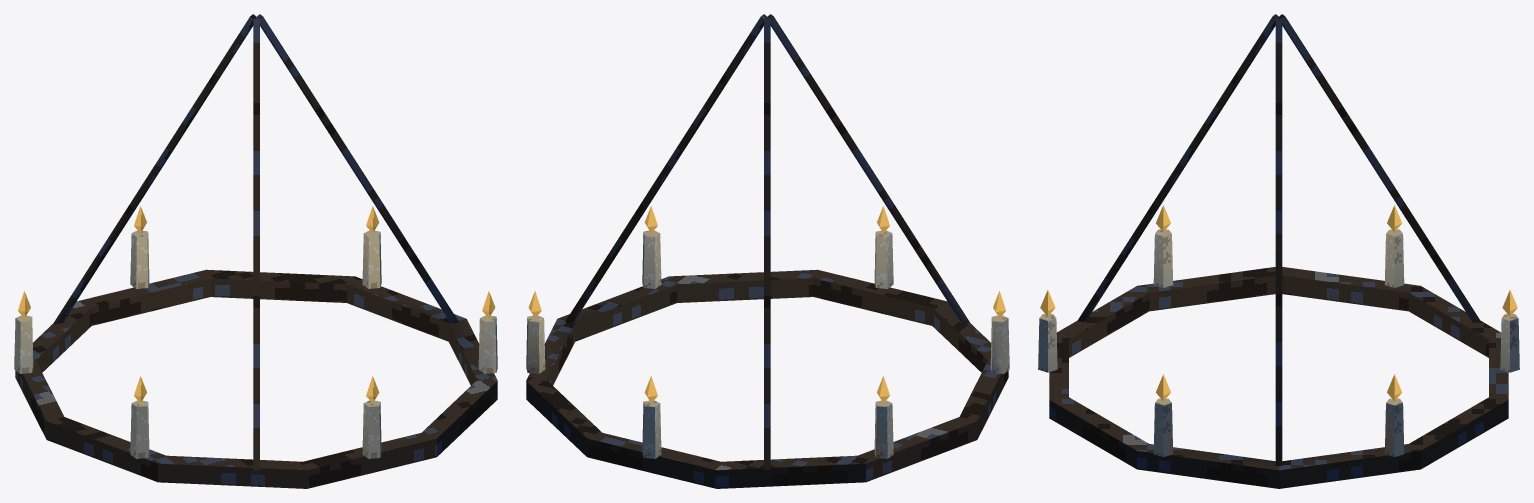
File: cst.chandelier.glb
3 renders of one model, left to right at view 1: azimuth 30°, elevation 25°; view 2: azimuth 150°, elevation 25°; view 3: azimuth 270°, elevation 25°, orthographic.
Parts seen in each view (by area): view 1: kit_iron, kit_candles; view 2: kit_iron, kit_candles; view 3: kit_iron, kit_candles.
Part boxes in pixels (bbox=[...]): kit_iron: bbox=[15, 14, 497, 488]; kit_candles: bbox=[14, 206, 497, 458]; kit_iron: bbox=[526, 14, 1008, 488]; kit_candles: bbox=[526, 206, 1009, 458]; kit_iron: bbox=[1049, 14, 1508, 488]; kit_candles: bbox=[1038, 205, 1519, 457].
Bounding box in the file's own units: 1.88 × 1.59 × 1.88.
Materials: 3 (3 with a texture image).
